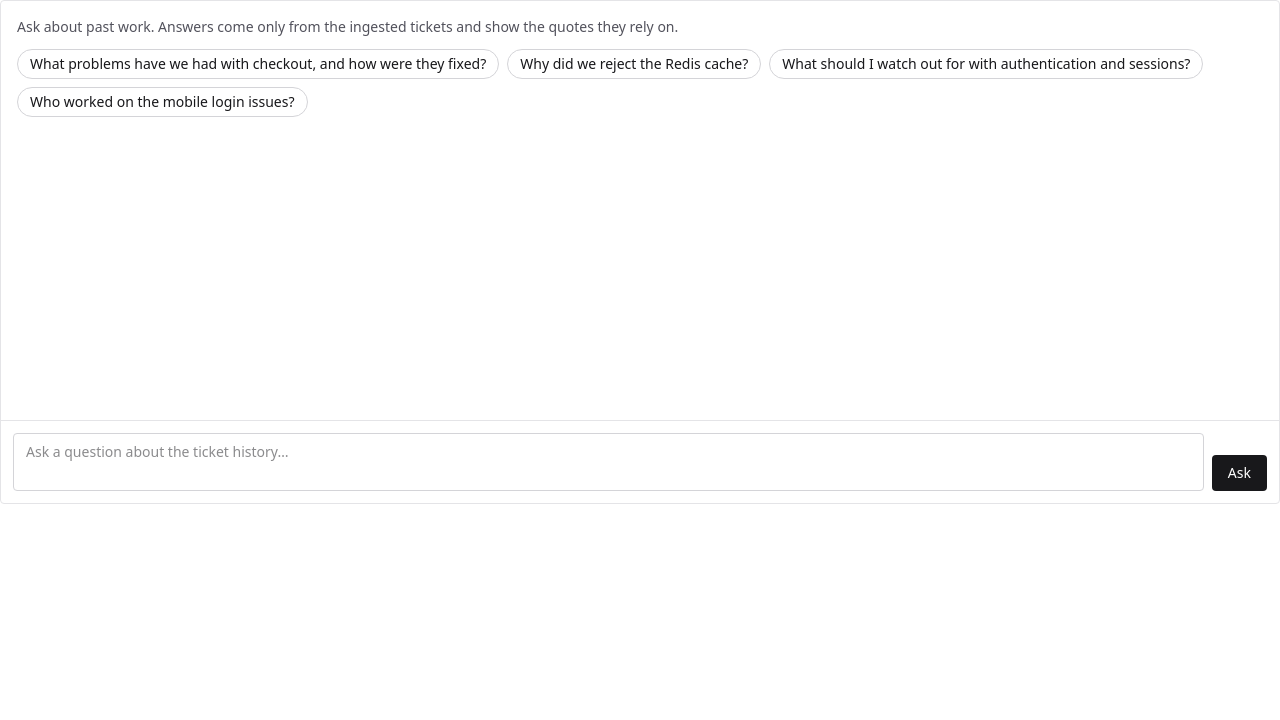
it: Chat › posts the question through the proxy with the CSRF header and shows the answer
This screenshot has width=1280, height=720.
Type "Why was Redis rejected?" into the text box named "Your question" at (608,462), box left=13, top=433, right=1204, bottom=491
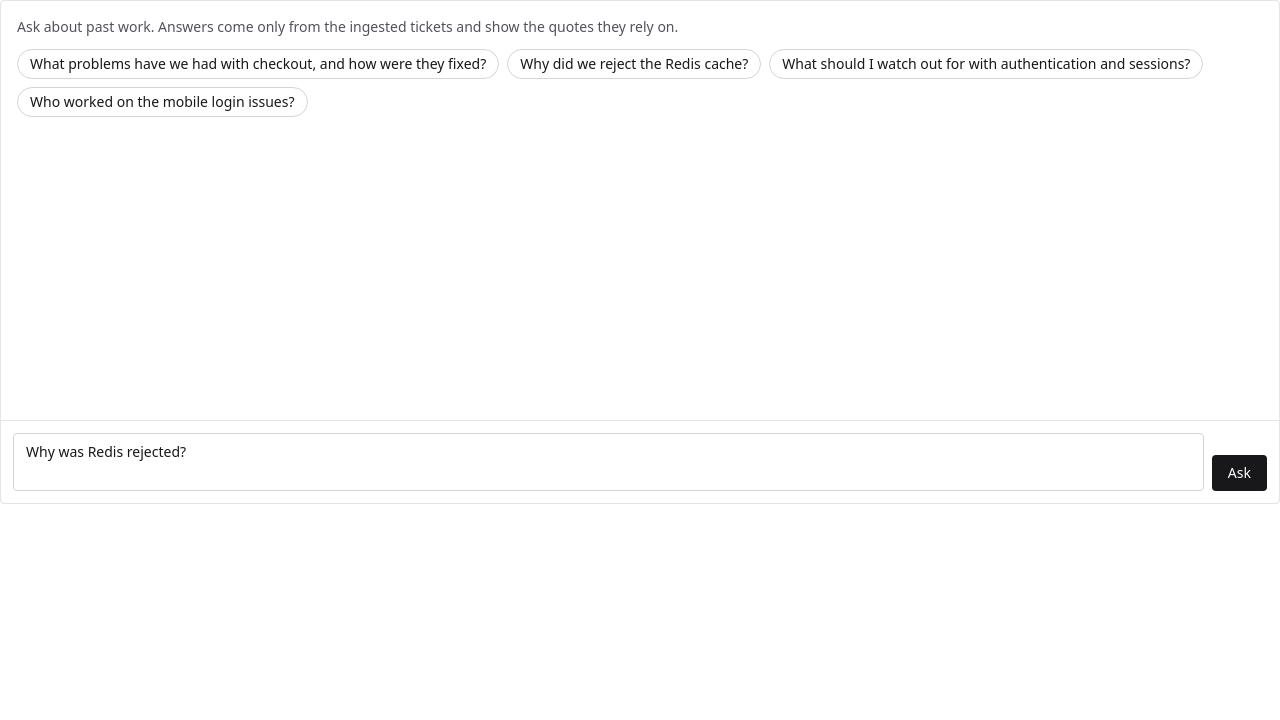
Click the button "Ask" at (1239,473), box left=1212, top=455, right=1267, bottom=491
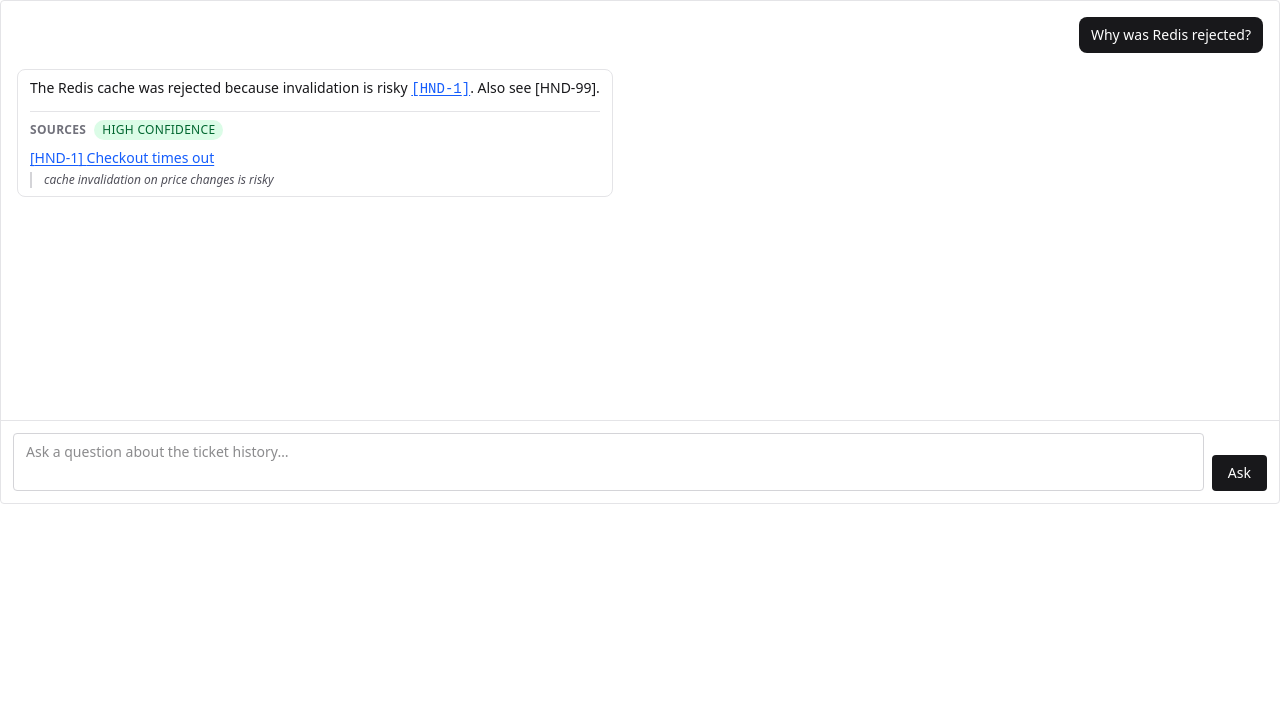
Result: the text "The Redis cache was rejected" is shown at left=30, top=78, right=411, bottom=97
Result: the text "Why was Redis rejected?" is shown at left=1079, top=17, right=1263, bottom=53
Result: the text box named "Your question" is empty at left=13, top=433, right=1204, bottom=491
